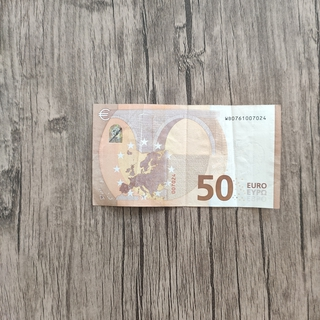50EUROBack: (91, 101, 282, 209)
